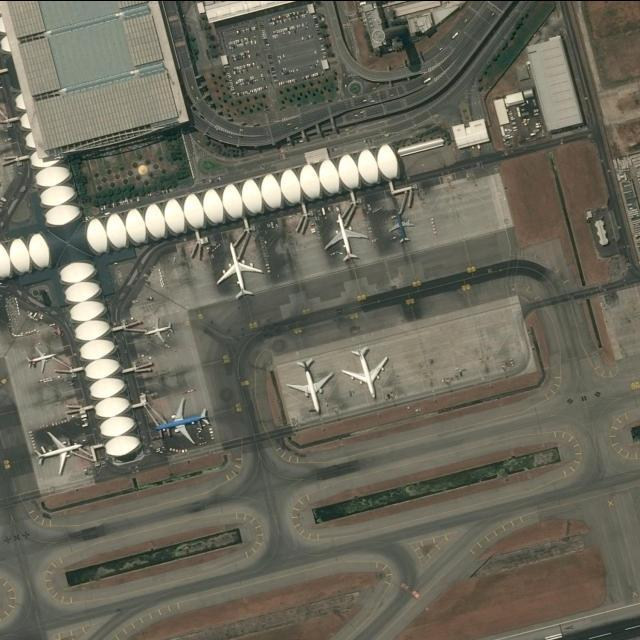Aircraft: (215, 241, 265, 297), (291, 357, 337, 417), (155, 399, 213, 445), (345, 347, 390, 399), (34, 430, 86, 475), (324, 216, 368, 260), (146, 318, 178, 344), (27, 348, 59, 372)
